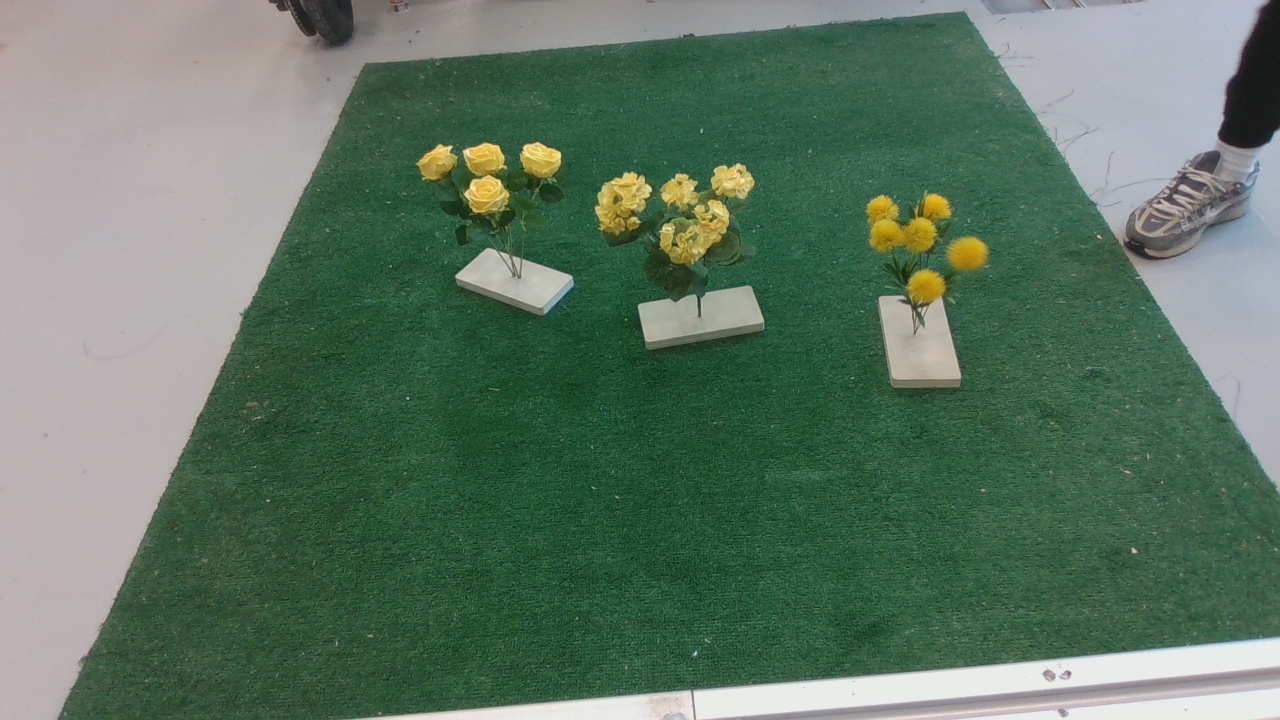dandelion: (863, 188, 1001, 337)
geranium: (592, 153, 761, 321)
rose: (414, 134, 580, 253)
